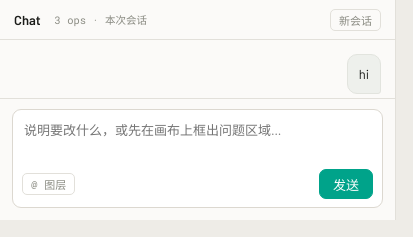
Test: ChatPanel › moves the session boundary to the current version on 新会话
The width and height of the screenshot is (413, 237).
Expected: the button "3 ops · 本次会话" is shown, [48, 11, 153, 28]
What coordinates should you click on to do the following:
click the button "新会话"
I would click on:
 (356, 20)
Its box is [330, 8, 381, 30].
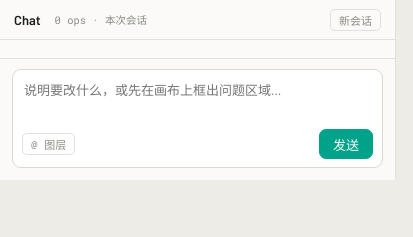
Now the button "0 ops · 本次会话" is shown, box [48, 11, 153, 28]
